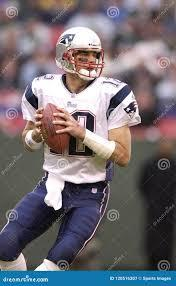americanFootball: (42, 103, 71, 154)
